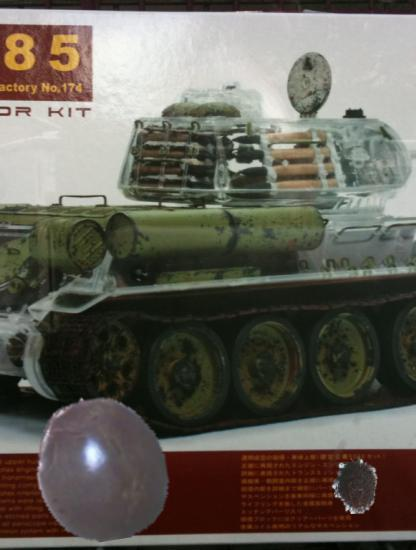Passion: (29, 395, 176, 542)
Rambutan: (326, 457, 383, 514)
